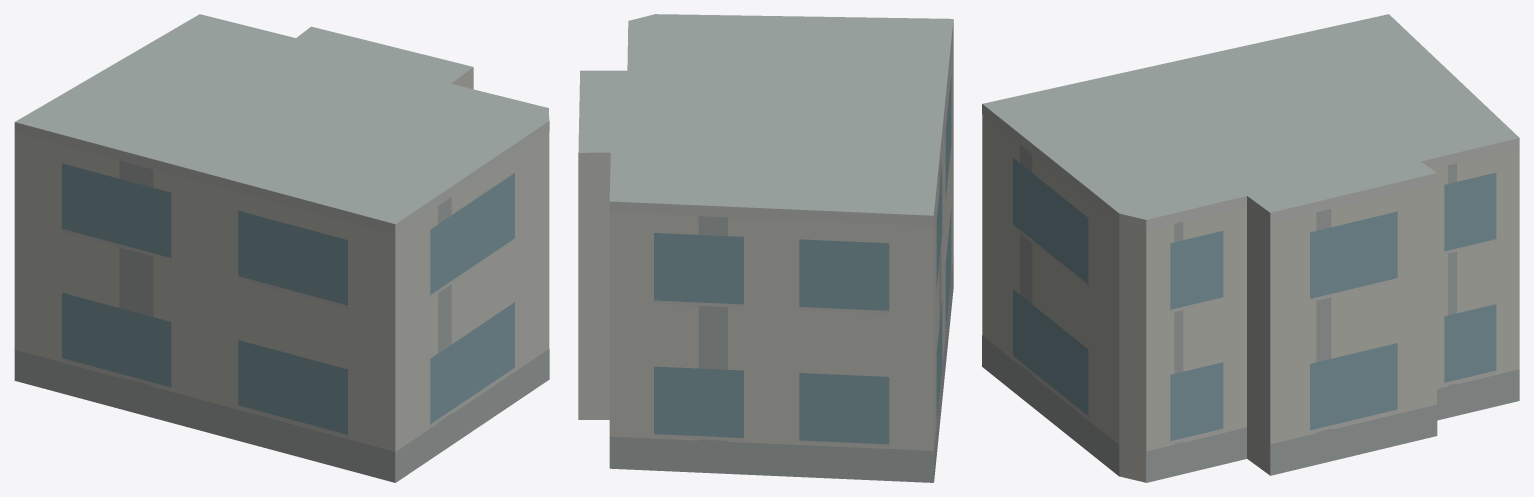
The model's file is residential-2c80475a-1bc5-4739-8619-9d895b097a23.glb.
3 views of the same model, side by side, from view 1: azimuth 30°, elevation 25°; view 2: azimuth 150°, elevation 25°; view 3: azimuth 270°, elevation 25° (orthographic). The views are drawn at different scales.
Visible parts, largest first — view 1: residential-2c80475a-1bc5-4739-8619-9d895b097a23.tmp; view 2: residential-2c80475a-1bc5-4739-8619-9d895b097a23.tmp; view 3: residential-2c80475a-1bc5-4739-8619-9d895b097a23.tmp.
Boxes of the visible parts, x1,y1,x2,y2 form: residential-2c80475a-1bc5-4739-8619-9d895b097a23.tmp: (14,14,549,482); residential-2c80475a-1bc5-4739-8619-9d895b097a23.tmp: (578,14,953,482); residential-2c80475a-1bc5-4739-8619-9d895b097a23.tmp: (982,14,1519,482).
Size of the model in its own units: 10.25 by 6.1 by 11.31.
